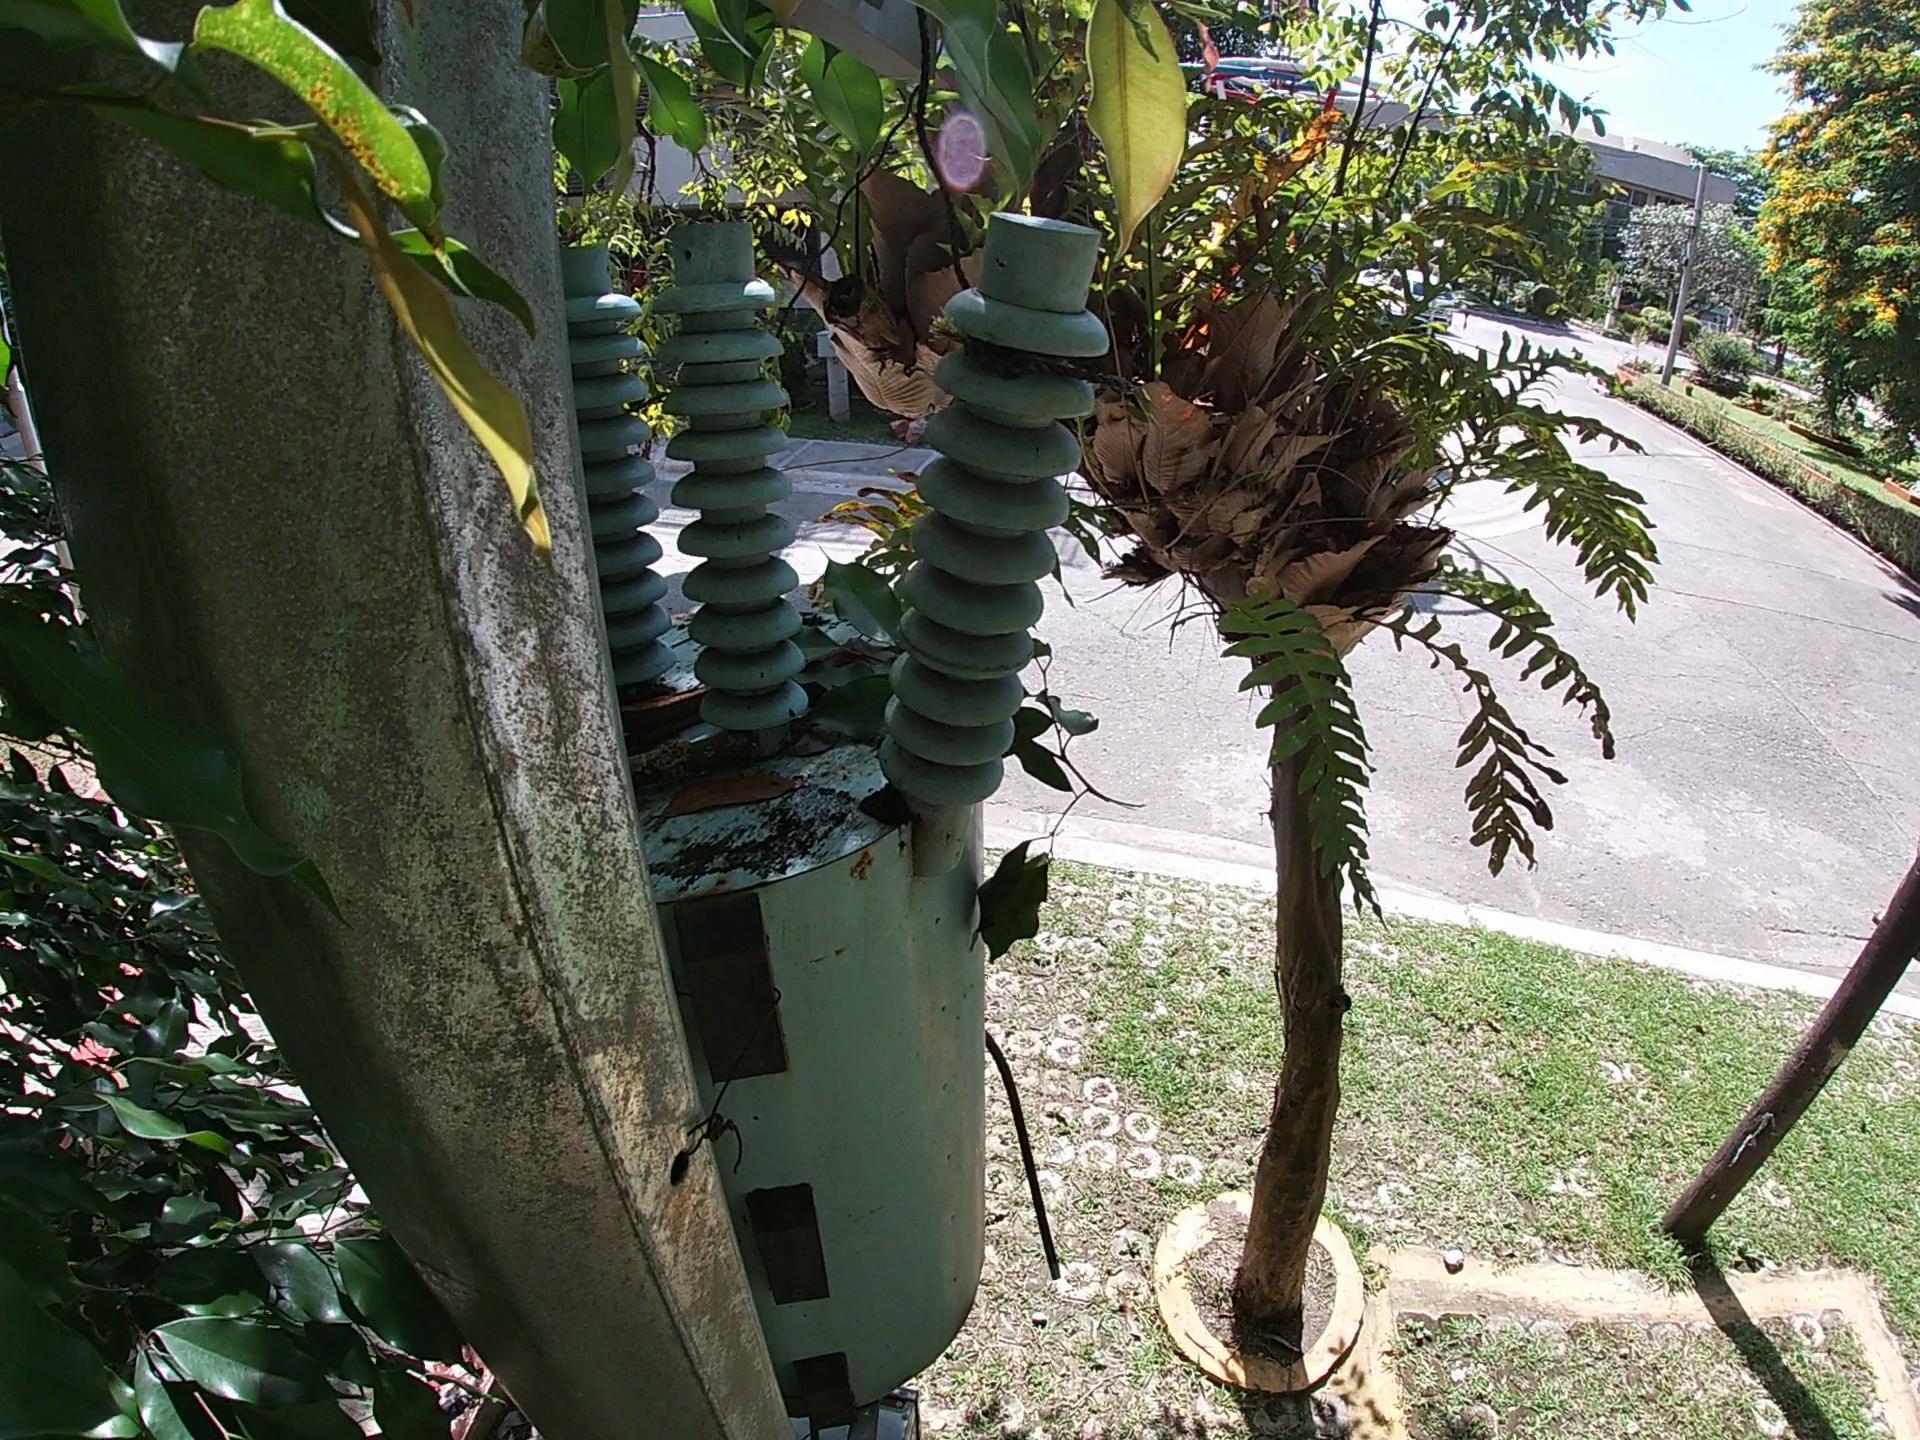branch with leaves: (971, 614, 1143, 1007)
leaf: (797, 548, 892, 749), (655, 774, 806, 812)
mahogany fruit: (605, 679, 717, 729)
tree branch: (621, 735, 766, 764)
